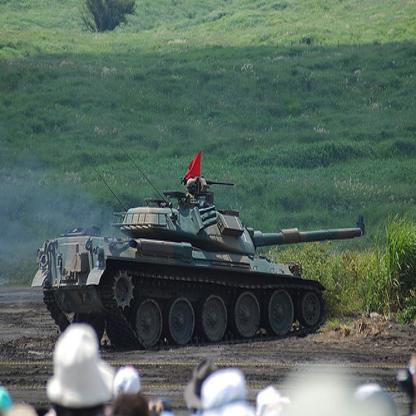Tank: (27, 175, 368, 352)
